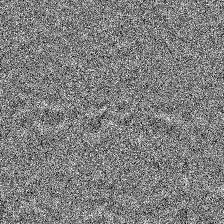cavities: (64, 118, 224, 221)
